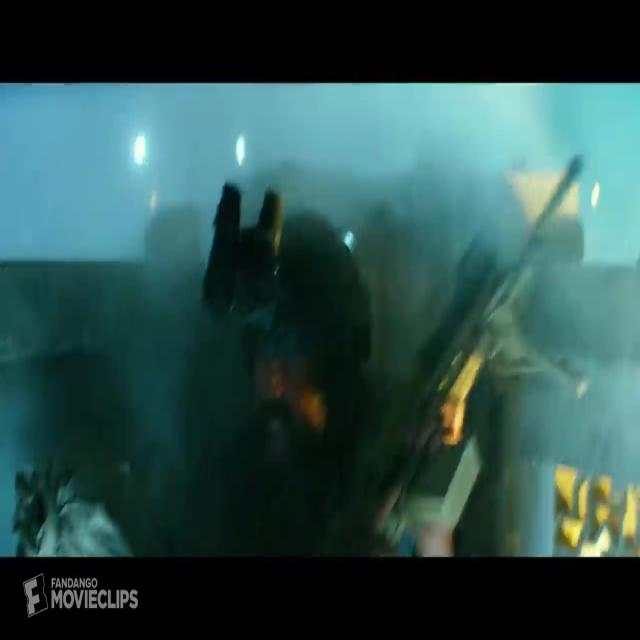Weapon: (362, 139, 602, 579)
